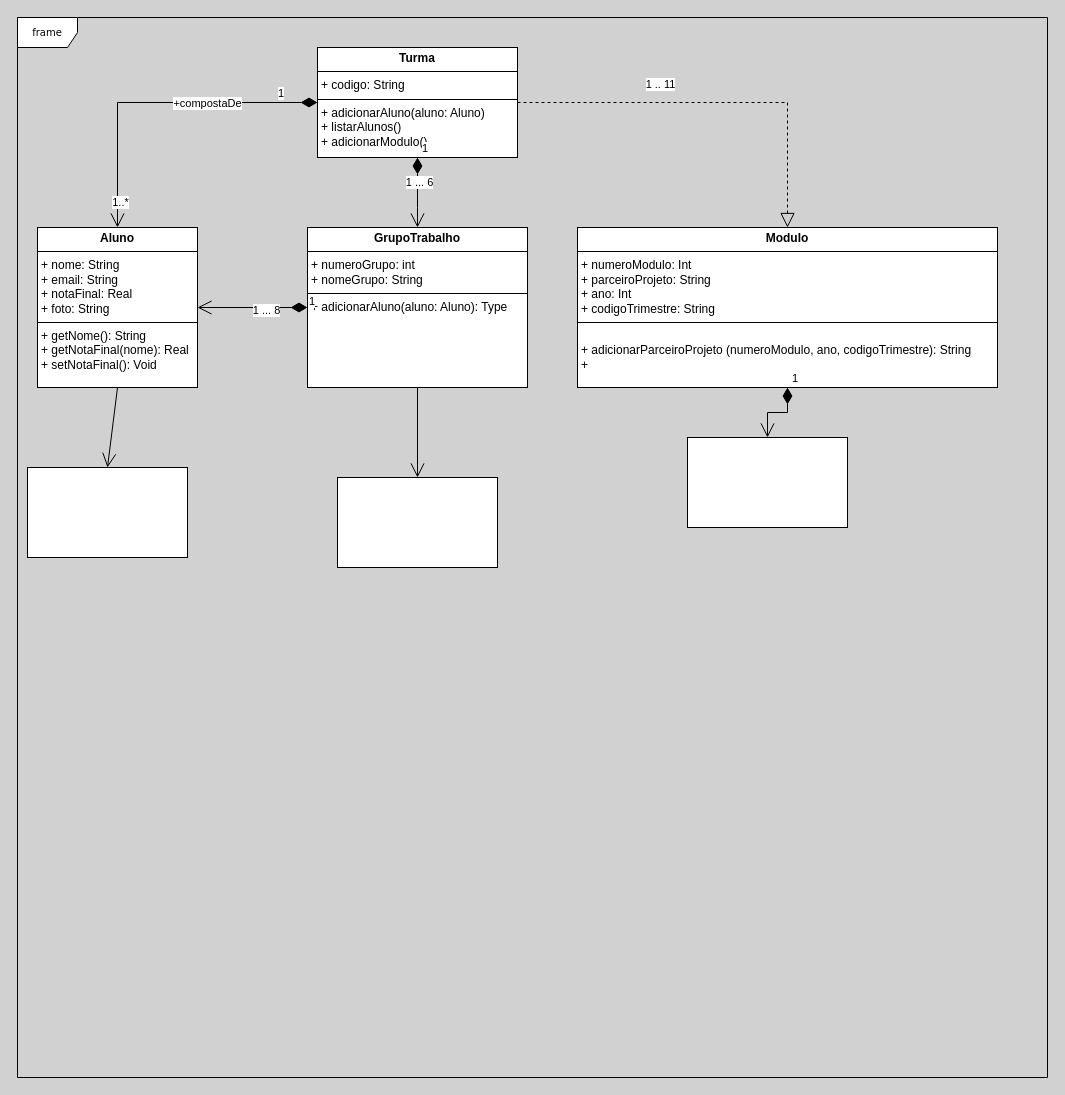
Image size: 1065x1095. Some labels were removed from this diagram. Here are the shapes that lost their labels. From the top down, the centre of each, then its label:
At point 767,482: "Sprint + numeroSprint: Int + method(): Type".
At point 107,512: "AvaliacaoIndividual + field: Type + method(): Type".
At point 417,522: "AvaliacaoGrupo + nota: Real + feedback: String + method(): Type".
